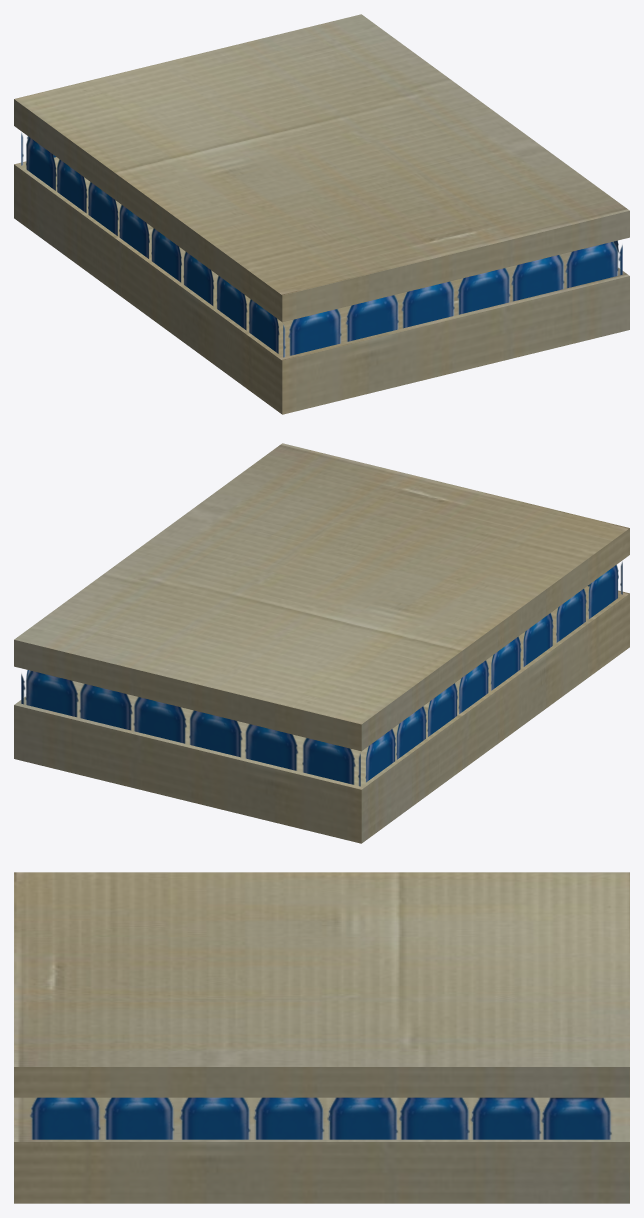
Rendered from CansBoxBlue.glb.
3 views of the same model, one above another, from view 1: azimuth 30°, elevation 25°; view 2: azimuth 150°, elevation 25°; view 3: azimuth 270°, elevation 25° (orthographic). The views are drawn at different scales.
Visible parts, largest first — view 1: Boxes_Refreshment _02; view 2: Boxes_Refreshment _02; view 3: Boxes_Refreshment _02.
Part boxes in pixels (left/top/right/bottom): Boxes_Refreshment _02: left=14, top=14, right=629, bottom=414; Boxes_Refreshment _02: left=14, top=443, right=629, bottom=843; Boxes_Refreshment _02: left=14, top=872, right=629, bottom=1203.
Bounding box in the file's own units: 0.9668 × 0.3169 × 1.29.
2 materials, 2 textured.
